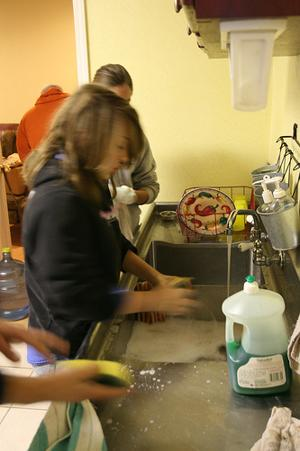person: (23, 77, 203, 351)
